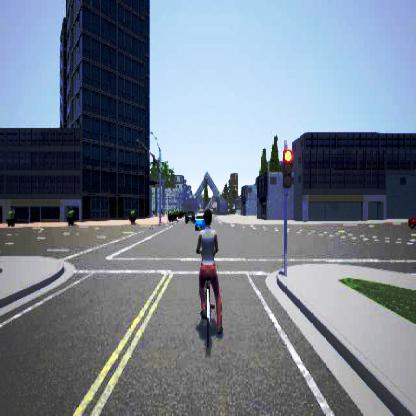bike: (195, 207, 222, 347)
vehicle: (184, 209, 206, 230)
